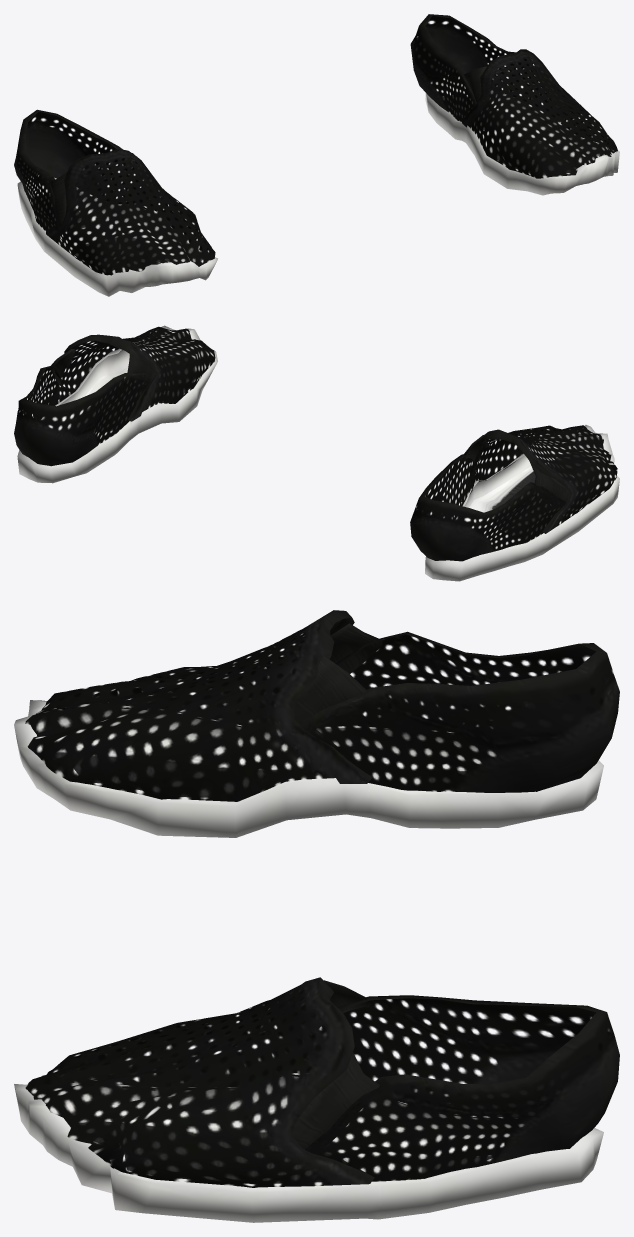
File: punkduck-comfortable-sneakers.glb
3 views of the same model, one above another, from view 1: azimuth 30°, elevation 25°; view 2: azimuth 150°, elevation 25°; view 3: azimuth 270°, elevation 25° (orthographic). The views are drawn at different scales.
Visible parts, largest first — view 1: Human.punkduck_comfortable_sneakers; view 2: Human.punkduck_comfortable_sneakers; view 3: Human.punkduck_comfortable_sneakers.
Part boxes in pixels (x1,y1,x2,y2): Human.punkduck_comfortable_sneakers: (14,14,619,296); Human.punkduck_comfortable_sneakers: (14,325,619,581); Human.punkduck_comfortable_sneakers: (14,610,619,1222).
Bounding box in the file's own units: 0.5461 × 0.1002 × 0.2933.
1 material, 1 textured.
